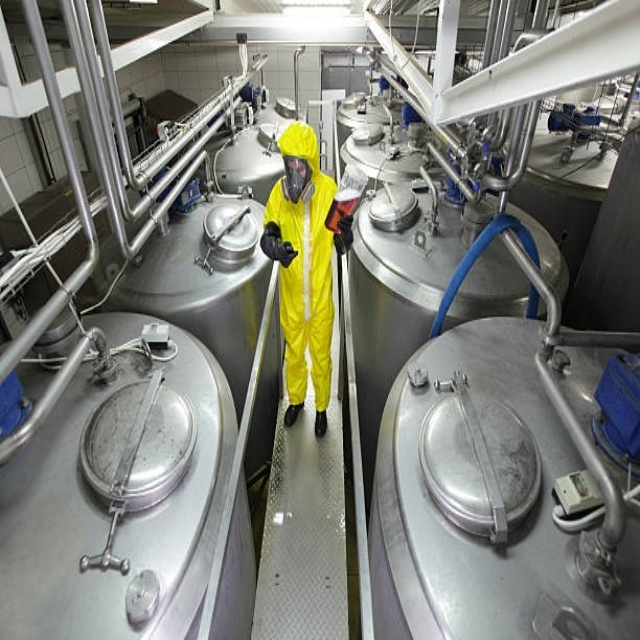Guantes: (260, 224, 297, 268), (334, 213, 354, 251)
Mascara: (283, 156, 311, 203)
